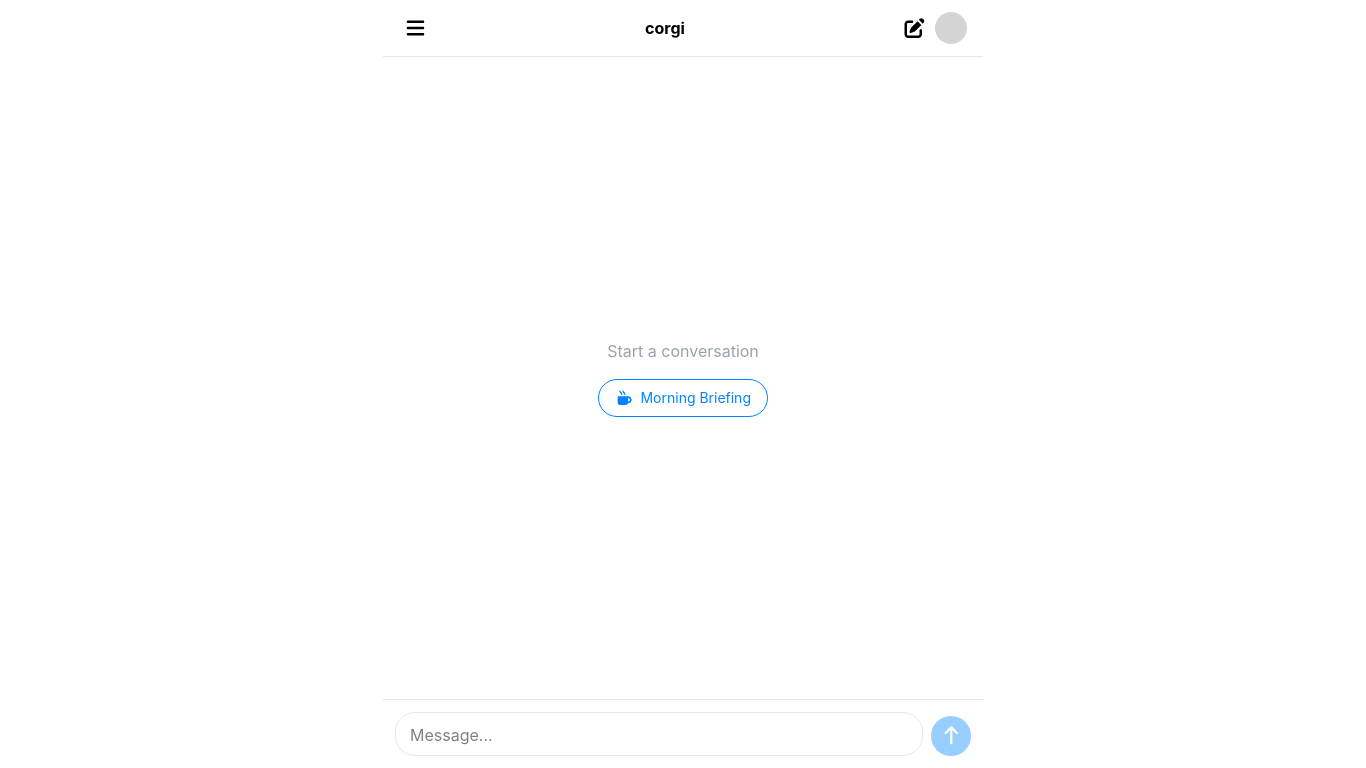
Test: ChatPage error toasts › shows "Failed to delete conversation" when deleteConversation rejects
The width and height of the screenshot is (1366, 768).
Click the button named "Toggle menu".
click(416, 28)  # box [399, 14, 432, 42]
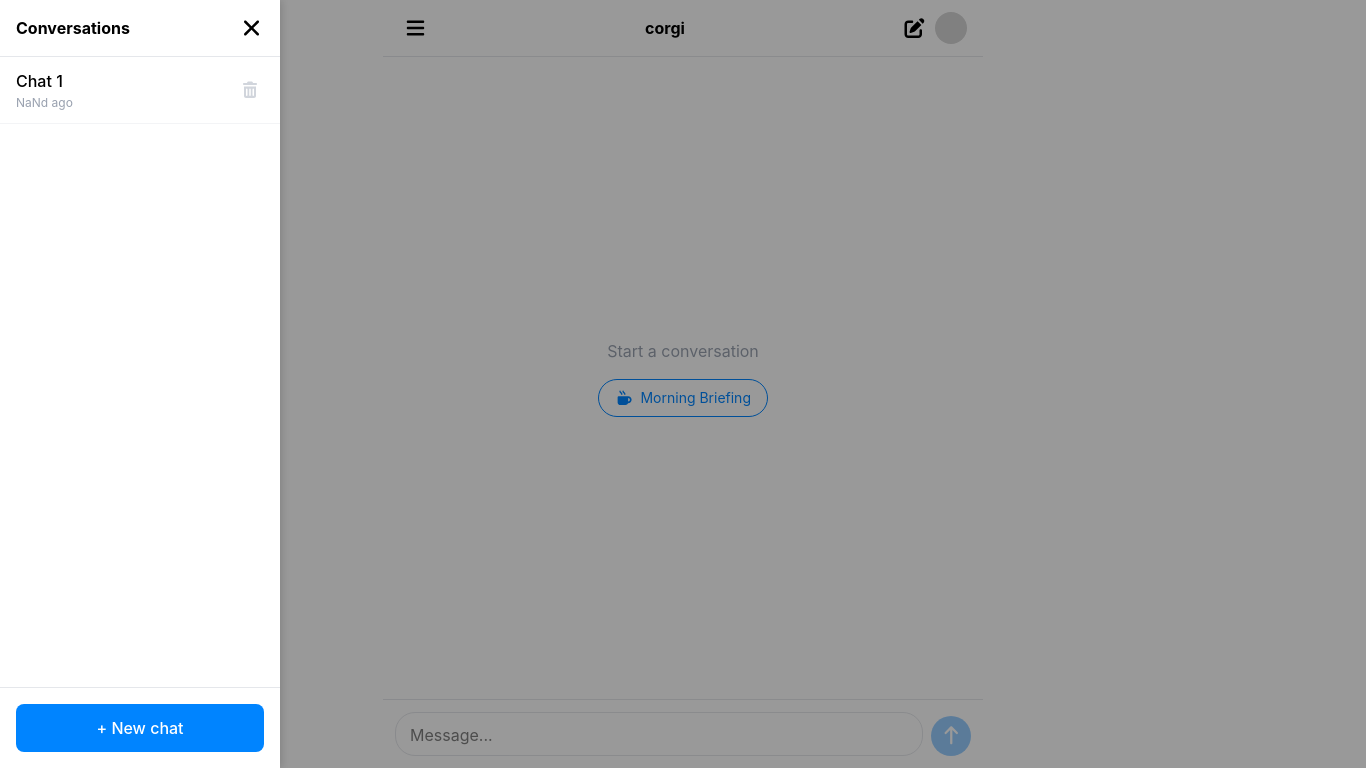
Expected: the text "Chat 1" is shown, [16, 71, 63, 91]
Click the button named "Delete conversation".
click(250, 90)  # box [236, 74, 264, 106]
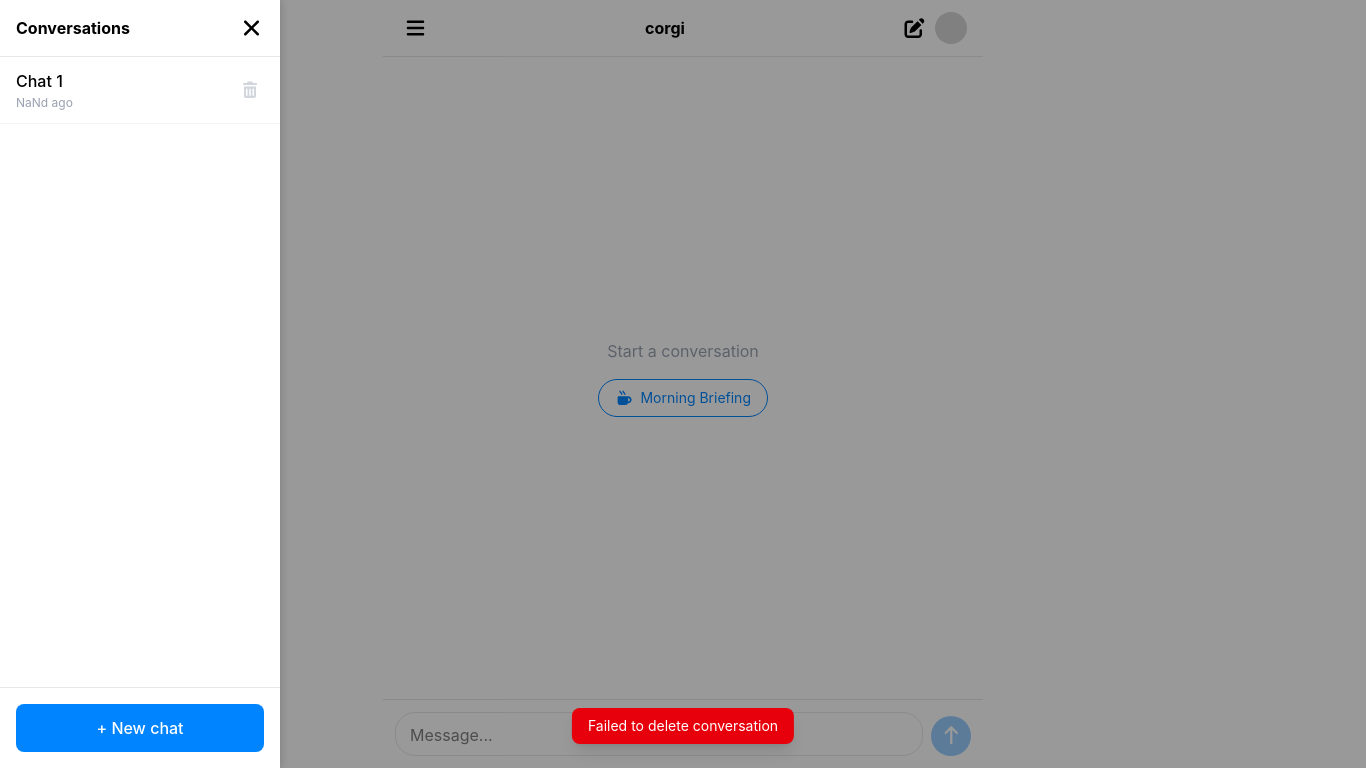
Expected: the text "Failed to delete conversation" is shown, [572, 708, 794, 744]
